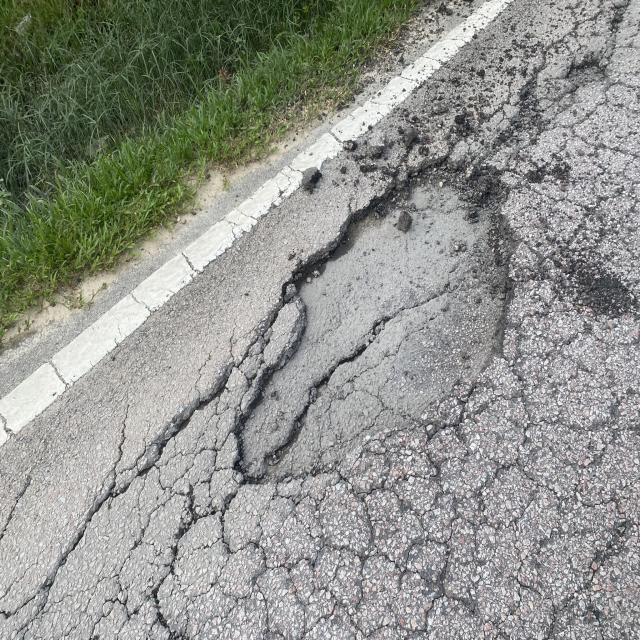Pothole: (213, 139, 638, 573)
